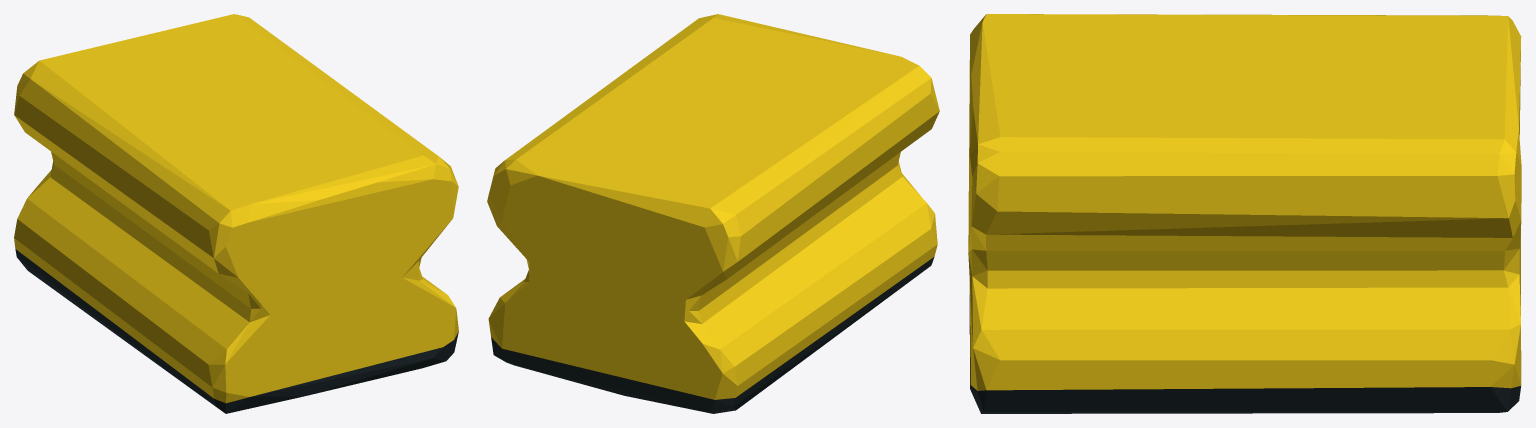
The model's file is RinsingSponge.fbx.
3 views of the same model, side by side, from view 1: azimuth 30°, elevation 25°; view 2: azimuth 150°, elevation 25°; view 3: azimuth 270°, elevation 25° (orthographic). The views are drawn at different scales.
Visible parts, largest first — view 1: RinsingSpongeLowPoly; view 2: RinsingSpongeLowPoly; view 3: RinsingSpongeLowPoly.
Part boxes in pixels (x1,y1,x2,y2): RinsingSpongeLowPoly: (14, 14, 458, 413); RinsingSpongeLowPoly: (487, 14, 939, 413); RinsingSpongeLowPoly: (968, 14, 1521, 413).
Size of the model in its own units: 4.98 by 4 by 7.36.
